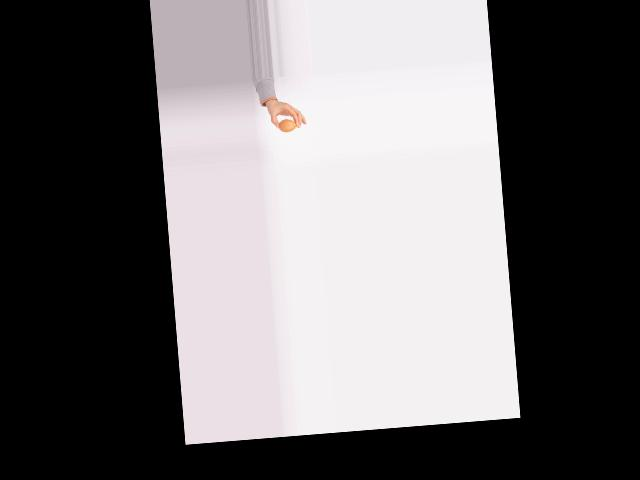egg: (278, 119, 296, 133)
